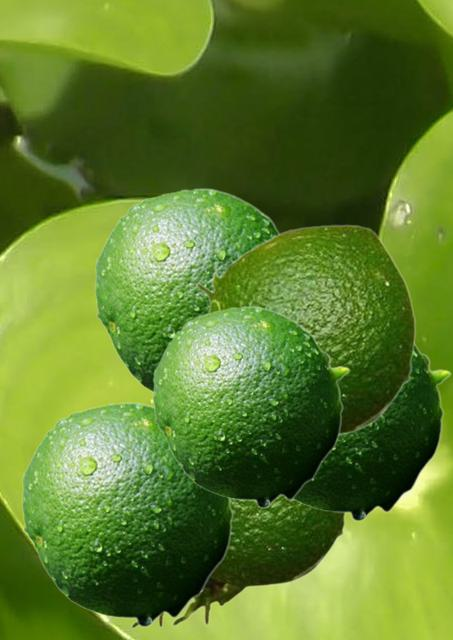dalandan: (21, 401, 235, 627), (194, 224, 415, 435), (152, 305, 349, 508), (94, 187, 281, 393), (293, 341, 450, 521), (171, 497, 346, 626)
